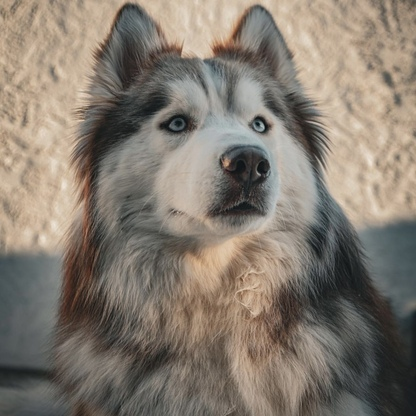husky: (41, 1, 416, 416)
